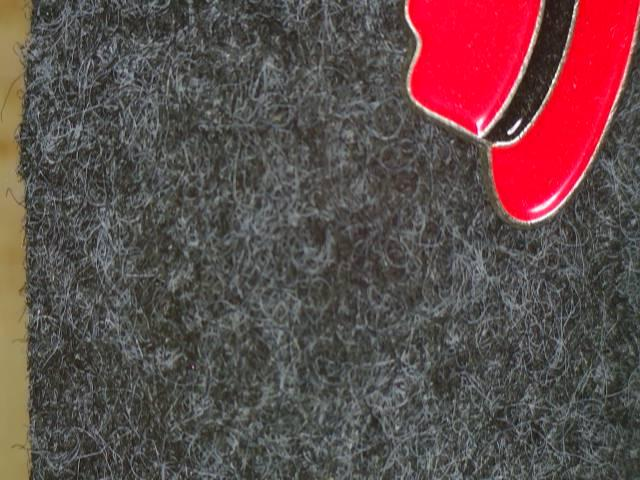Red-Hat: (373, 0, 640, 277)
